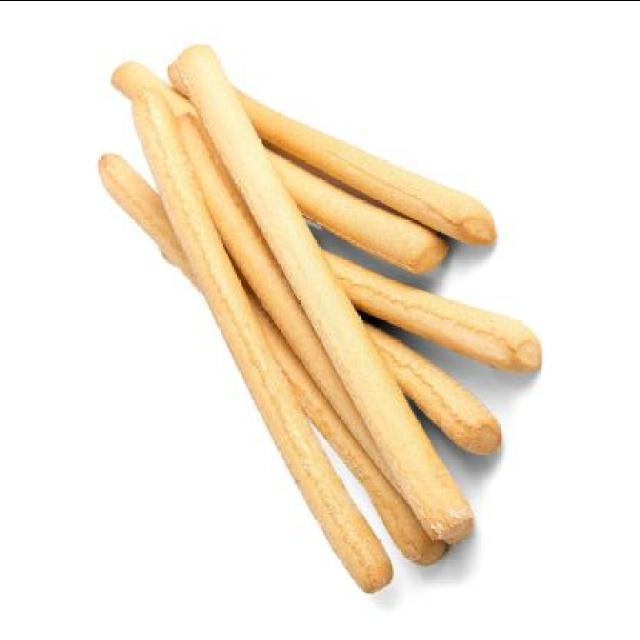Grissini: (99, 42, 536, 600)
